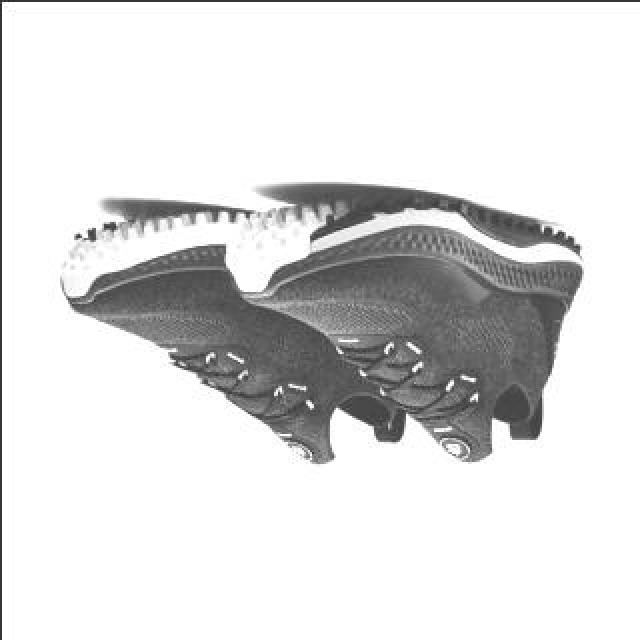shoe: (223, 190, 579, 462), (58, 208, 434, 464)
